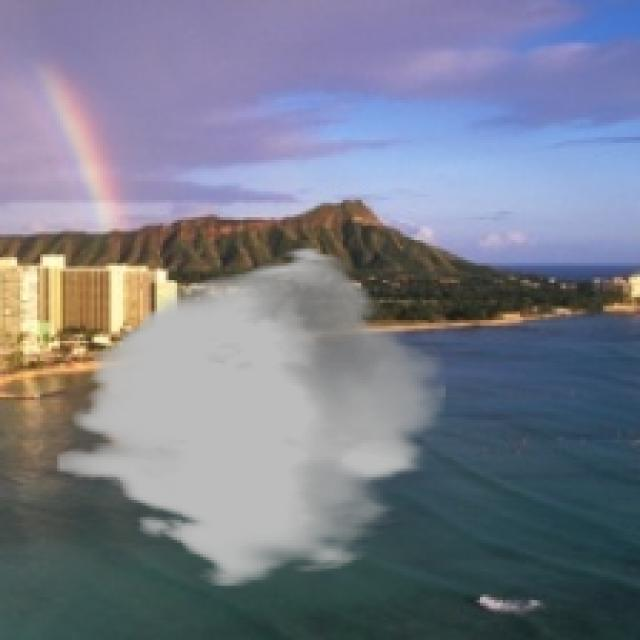smoke: (57, 246, 446, 588)
